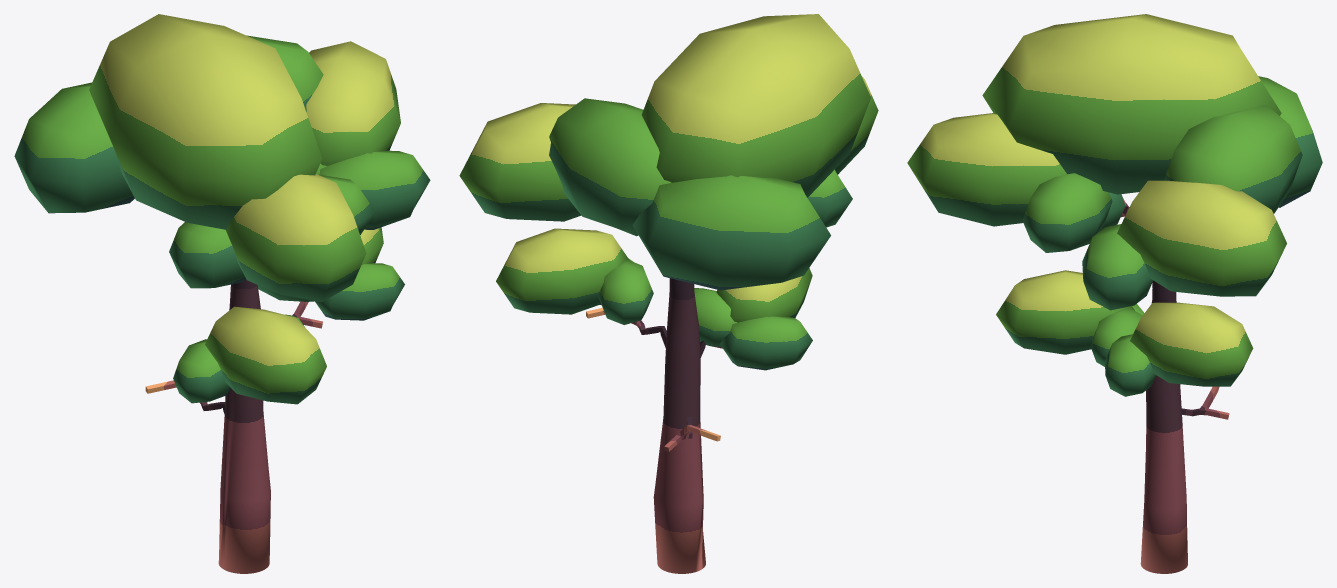
File: Tree_Complete_Spell.fbx
The picture shows the model from 3 angles, left to right: view 1: azimuth 30°, elevation 25°; view 2: azimuth 150°, elevation 25°; view 3: azimuth 270°, elevation 25°; orthographic projection. The views are drawn at different scales.
Parts seen in each view (by area): view 1: Cylinder.003; view 2: Cylinder.003; view 3: Cylinder.003.
Part boxes in pixels (left/top/right/bottom): Cylinder.003: left=14, top=14, right=430, bottom=573; Cylinder.003: left=459, top=14, right=878, bottom=573; Cylinder.003: left=907, top=14, right=1322, bottom=573.
Bounding box in the file's own units: 1602 × 2309 × 1673.
Materials: 1 (1 with a texture image).
